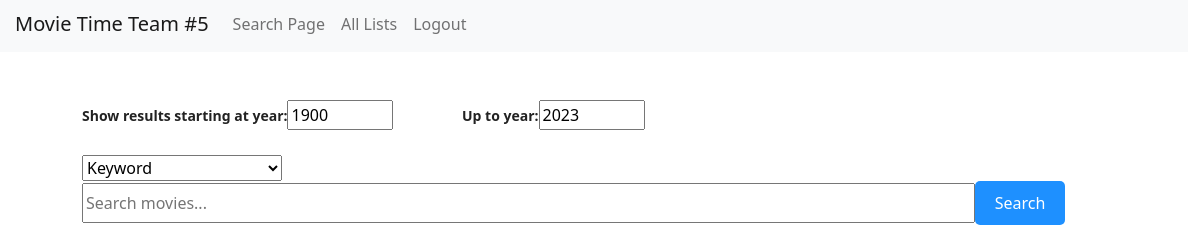
Test case: fails to fetch a movie result for shrek
Type "Shrek" into the field with test id "searchField" at [528, 203], box [82, 183, 975, 223]
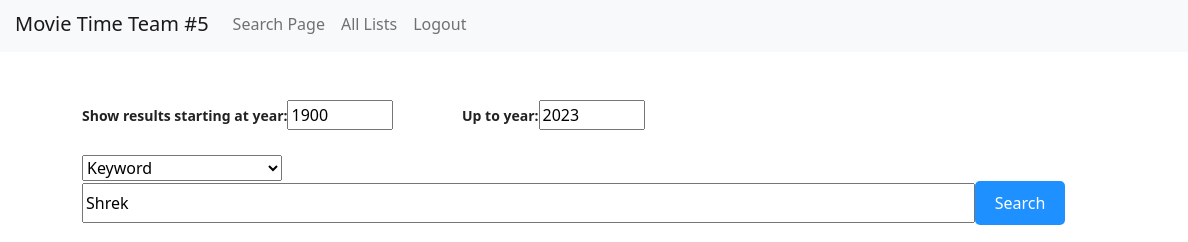
Submit the form from the field with test id "searchField", box [82, 183, 975, 223]
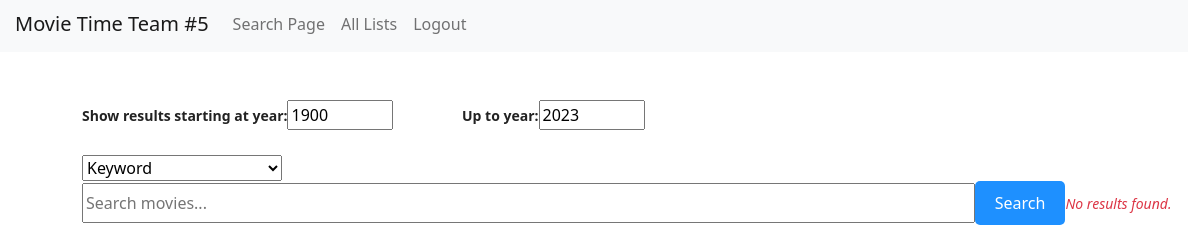
Result: the text "No results found." is shown at [1065, 194, 1171, 213]
